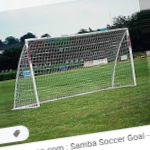goals: (13, 26, 138, 109)
